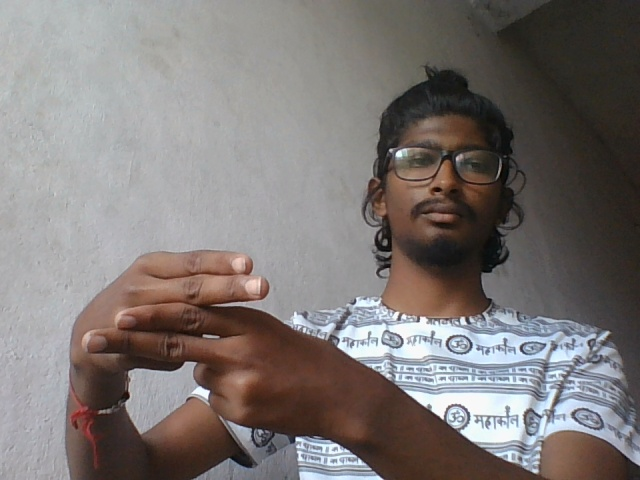Call: (63, 243, 387, 460)
